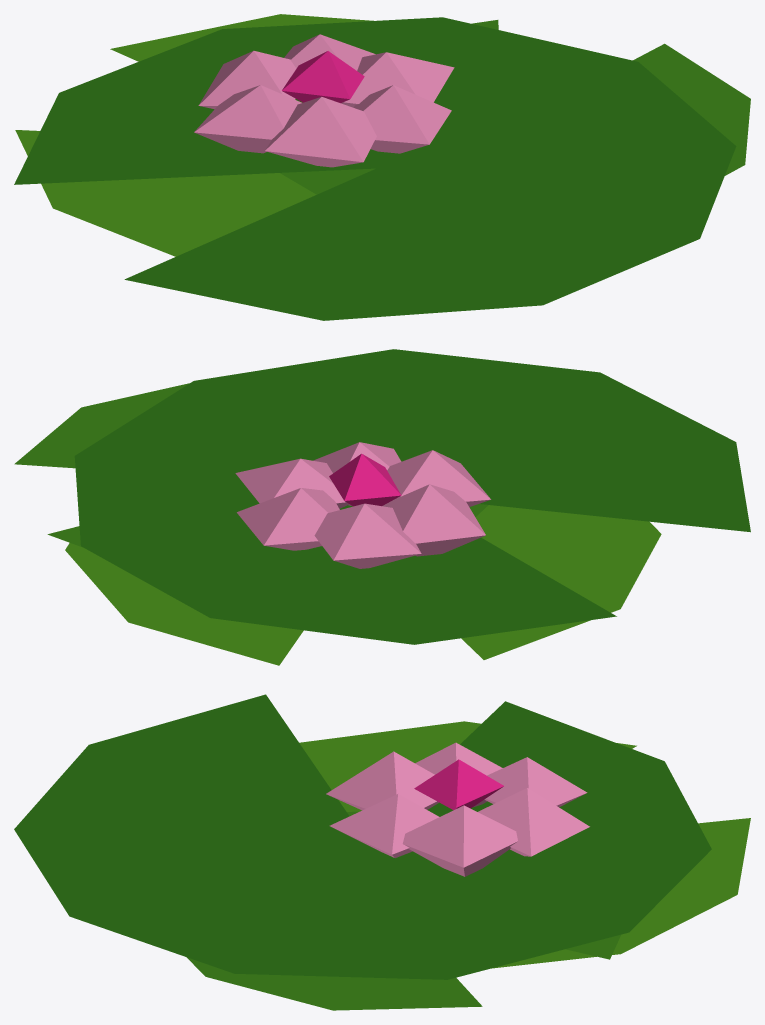
Rendered from lily_pads.gltf.
The picture shows the model from 3 angles, top to bottom: view 1: azimuth 30°, elevation 25°; view 2: azimuth 150°, elevation 25°; view 3: azimuth 270°, elevation 25°; orthographic projection. The views are drawn at different scales.
Visible parts, largest first — view 1: lily_pads; view 2: lily_pads; view 3: lily_pads.
Boxes of the visible parts, x1,y1,x2,y2 form: lily_pads: [14, 14, 750, 320]; lily_pads: [14, 349, 750, 665]; lily_pads: [14, 694, 750, 1010].
Bounding box in the file's own units: 0.6742 × 0.0909 × 0.6769.
